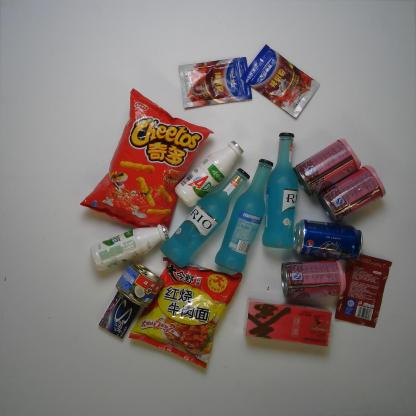Alcohol: (159, 167, 252, 270), (214, 157, 274, 275), (261, 131, 300, 251)
Canned Food: (292, 136, 362, 198), (318, 163, 388, 223), (280, 258, 348, 302), (114, 260, 165, 309)
Drink: (293, 218, 364, 262)
Gum: (99, 289, 142, 340)
Instant Drink: (242, 296, 331, 348)
Instant Noodles: (127, 256, 244, 370)
Milk: (173, 139, 245, 209), (89, 222, 170, 273)
Puffed Food: (78, 87, 216, 228)
Seasoner: (240, 42, 322, 120), (334, 253, 393, 329), (178, 56, 253, 108)
